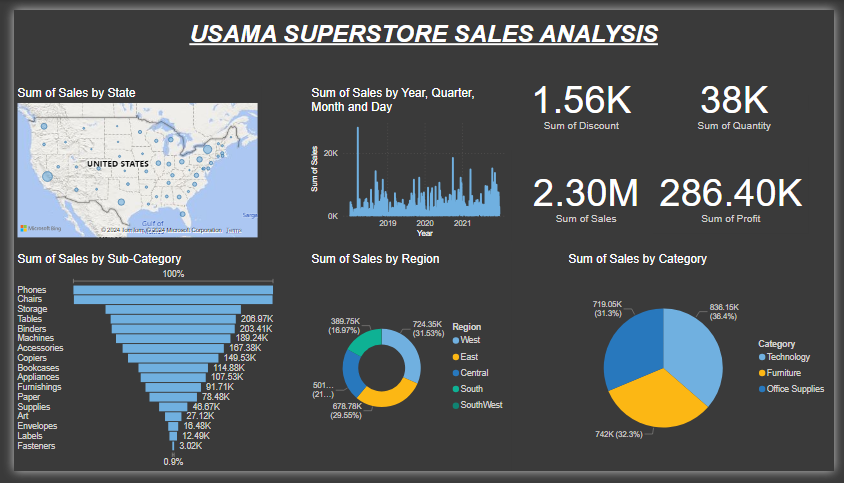

Layout of this report page (visuals, bound fields, positions):
{"tool":"powerbi","page":{"name":"Page 1","canvas":[1280,720],"ordinal":0},"visuals":[{"type":"pieChart","fields":{"Y":["Orders.Sales"],"Category":["Orders.Category"]},"box":[861.1,378.7,419,341.3],"z":0},{"type":"donutChart","fields":{"Y":["Orders.Sales"],"Category":["Orders.Region"]},"box":[459.4,378.7,318.2,341.3],"z":1},{"type":"funnel","fields":{"Y":["Orders.Sales"],"Category":["Orders.Sub-Category"]},"box":[0,378.7,414.7,341.3],"z":2},{"type":"map","fields":{"Size":["Orders.Sales"],"Category":["Orders.State"]},"box":[0,118.1,385.9,241.9],"z":3},{"type":"lineChart","fields":{"Y":["Orders.Sales"],"Category":["Orders.Order Date.Variation.Date Hierarchy.Year","Orders.Order Date.Variation.Date Hierarchy.Quarter","Orders.Order Date.Variation.Date Hierarchy.Month","Orders.Order Date.Variation.Date Hierarchy.Day"]},"box":[459,118,318,242],"z":4},{"type":"card","fields":{"Values":["Orders.Sales"]},"box":[777.6,218.9,231.8,141.1],"z":5},{"type":"card","fields":{"Values":["Orders.Profit"]},"box":[997.9,229,243.4,119.5],"z":6},{"type":"card","fields":{"Values":["Orders.Quantity"]},"box":[1009.4,69.1,231.8,149.8],"z":7},{"type":"card","fields":{"Values":["Orders.Discount"]},"box":[770.4,69.1,231.8,149.8],"z":8},{"type":"textbox","box":[0,11.5,1280.2,106.6],"z":9}]}

Visuals, with their boxes in screenshot pixels (x1, y1, x2, y2), scaled from the page's 1280x720 canvas onto the 844x483 screenshot:
pieChart - Orders.Sales x Orders.Category: l=568, t=254, r=843, b=482
donutChart - Orders.Sales x Orders.Region: l=303, t=254, r=513, b=482
funnel - Orders.Sales x Orders.Sub-Category: l=0, t=254, r=273, b=482
map - Orders.Sales x Orders.State: l=0, t=79, r=254, b=241
lineChart - Orders.Sales x Orders.Order Date.Variation.Date Hierarchy.Year: l=303, t=79, r=512, b=241
card - Orders.Sales: l=513, t=147, r=666, b=241
card - Orders.Profit: l=658, t=154, r=818, b=234
card - Orders.Quantity: l=666, t=46, r=818, b=147
card - Orders.Discount: l=508, t=46, r=661, b=147
textbox: l=0, t=8, r=843, b=79
